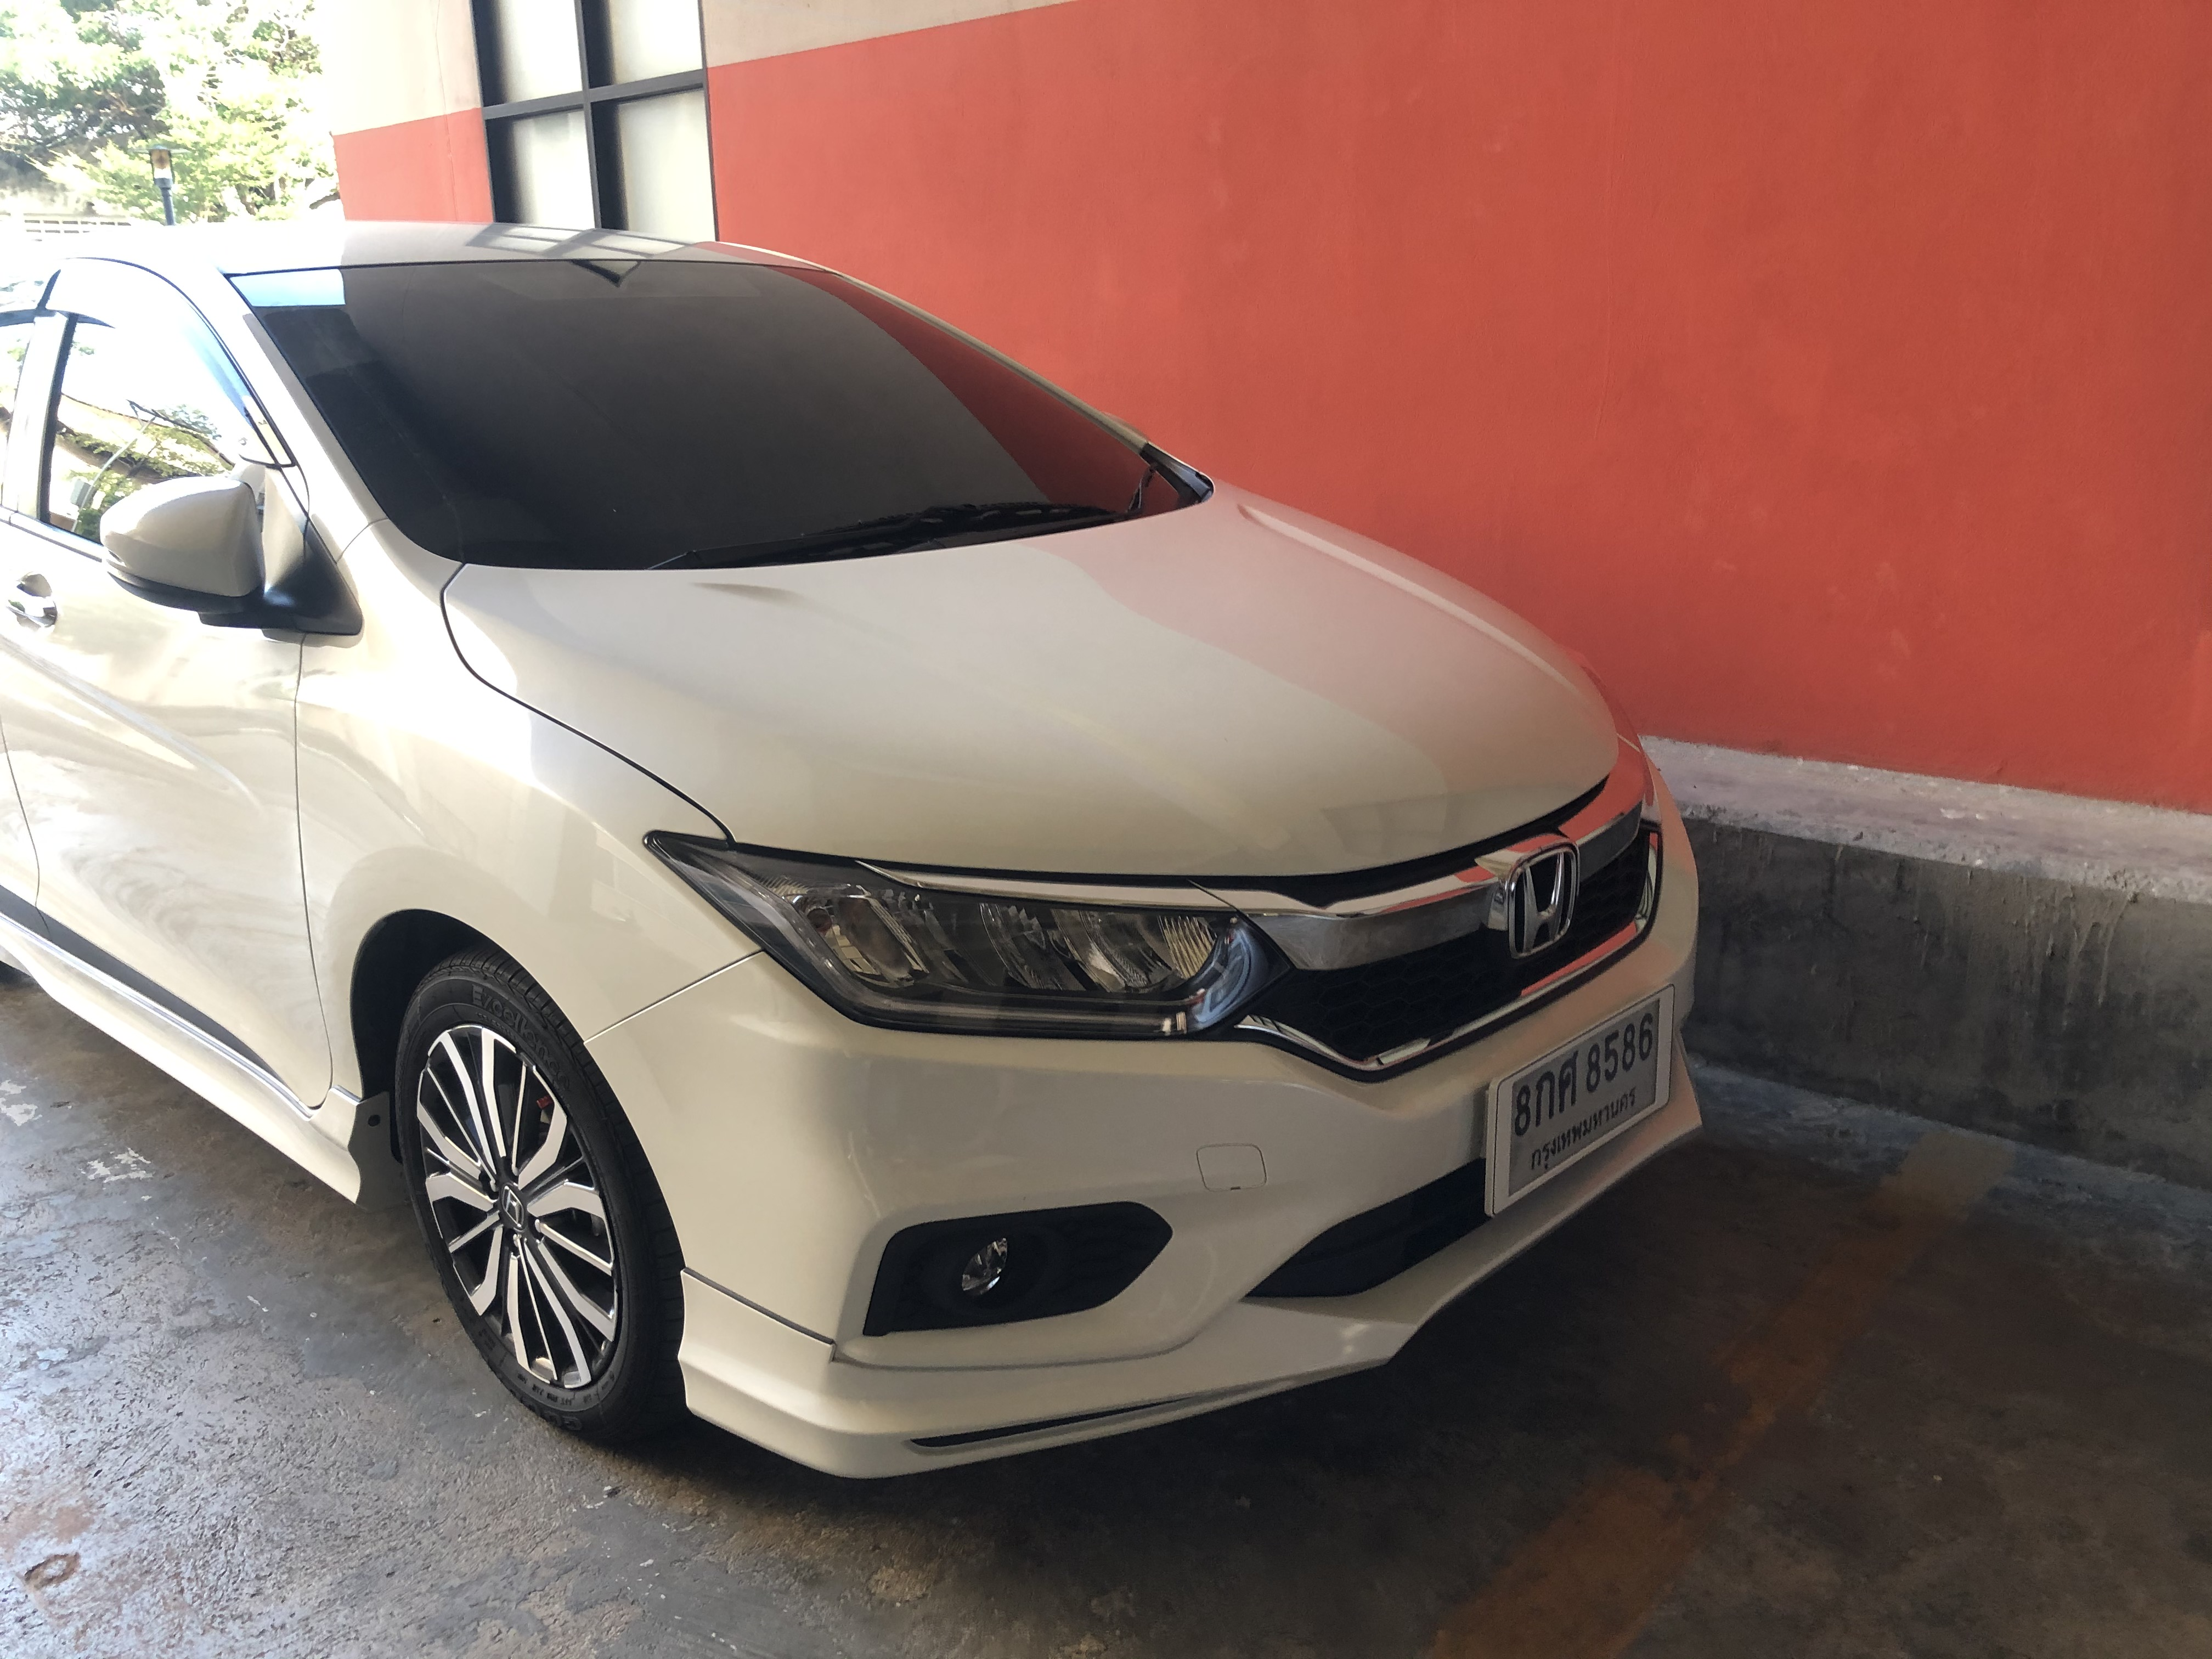in: (1507, 995, 1663, 1199)
out: (1486, 983, 1679, 1216)
